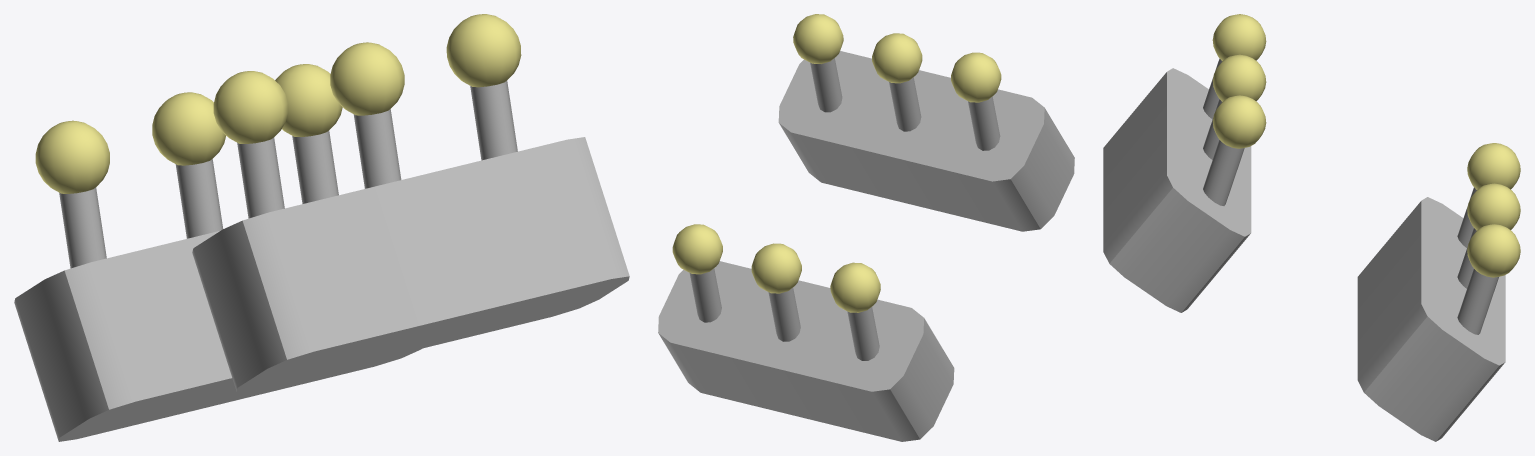
File: Levers.fbx
3 views of the same model, side by side, from view 1: azimuth 30°, elevation 25°; view 2: azimuth 150°, elevation 25°; view 3: azimuth 270°, elevation 25° (orthographic). The views are drawn at different scales.
Parts seen in each view (by area): view 1: Leverbox1, Leverbox2, Lever6, Lever1, Lever2, Lever3, Lever5, Lever4; view 2: Leverbox2, Leverbox1, Lever1, Lever3, Lever4, Lever2, Lever6, Lever5; view 3: Leverbox2, Leverbox1, Lever4, Lever3, Lever5, Lever6, Lever2, Lever1.
Boxes of the visible parts, x1=… form: Leverbox1: x1=192, y1=137, x2=629, y2=391; Leverbox2: x1=14, y1=230, x2=422, y2=441; Lever6: x1=35, y1=120, x2=109, y2=268; Lever1: x1=213, y1=71, x2=287, y2=218; Lever2: x1=330, y1=42, x2=404, y2=188; Lever3: x1=446, y1=14, x2=521, y2=160; Lever5: x1=152, y1=92, x2=225, y2=238; Lever4: x1=275, y1=64, x2=342, y2=203; Leverbox2: x1=658, y1=261, x2=954, y2=441; Leverbox1: x1=778, y1=51, x2=1074, y2=231; Lever1: x1=951, y1=52, x2=1001, y2=150; Lever3: x1=793, y1=14, x2=843, y2=112; Lever4: x1=672, y1=224, x2=722, y2=322; Lever2: x1=872, y1=33, x2=922, y2=131; Lever6: x1=830, y1=262, x2=880, y2=360; Lever5: x1=751, y1=243, x2=801, y2=341; Leverbox2: x1=1357, y1=197, x2=1505, y2=441; Leverbox1: x1=1103, y1=68, x2=1251, y2=312; Lever4: x1=1457, y1=224, x2=1520, y2=334; Lever3: x1=1203, y1=95, x2=1266, y2=205; Lever5: x1=1457, y1=183, x2=1520, y2=288; Lever6: x1=1457, y1=143, x2=1520, y2=247; Lever2: x1=1203, y1=54, x2=1266, y2=159; Lever1: x1=1203, y1=14, x2=1266, y2=119.
Bounding box in the file's own units: 19.66 × 23.95 × 27.52.
